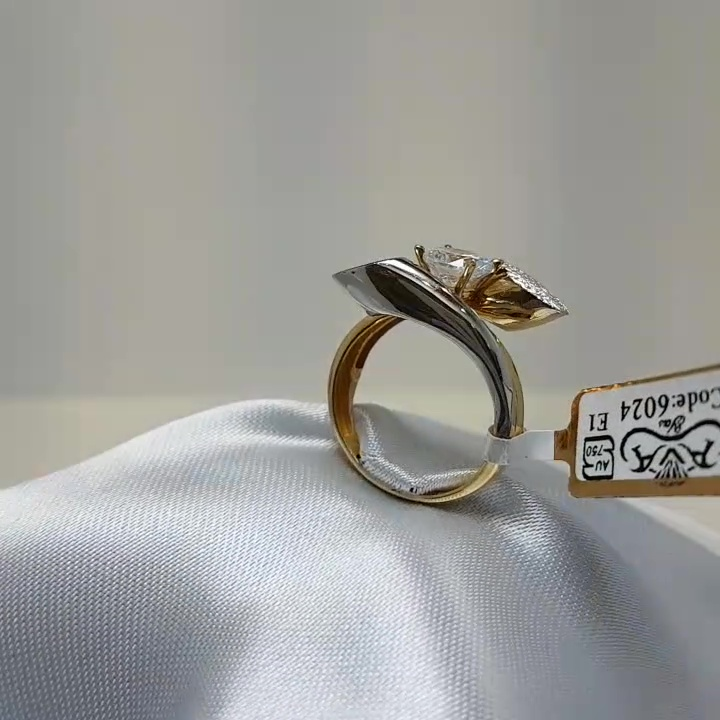Ring 7: (295, 230, 581, 516)
